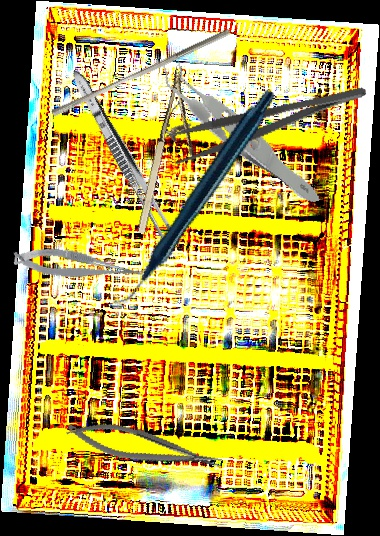Dressing Forceps: (65, 65, 184, 253), (163, 81, 374, 167)
Handpiece: (62, 86, 324, 309)
Micro Scissor: (10, 238, 147, 295)
Needle Holder: (132, 64, 217, 242), (63, 410, 226, 485)
Pusher: (49, 20, 233, 124)
Tissue Forceps: (157, 20, 321, 235)
